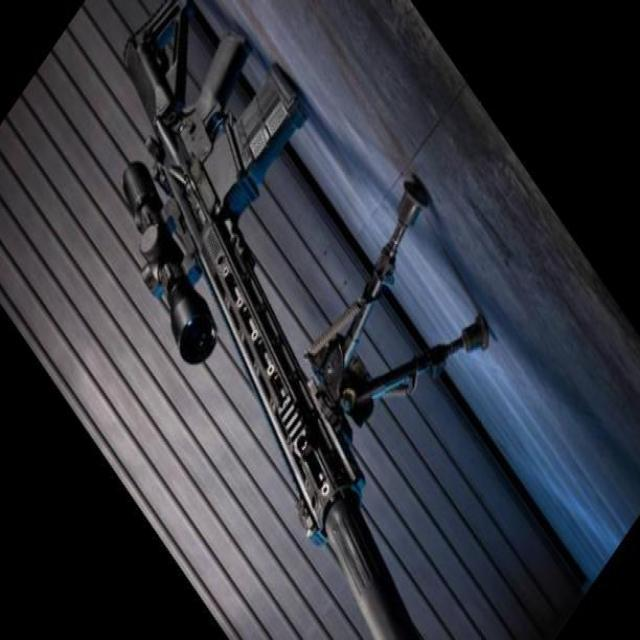Rifle: (123, 0, 490, 640)
